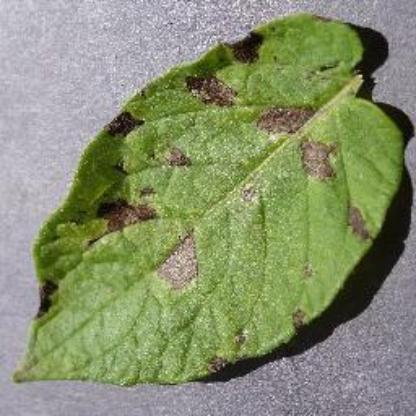Early-Blight: (8, 11, 406, 396)
